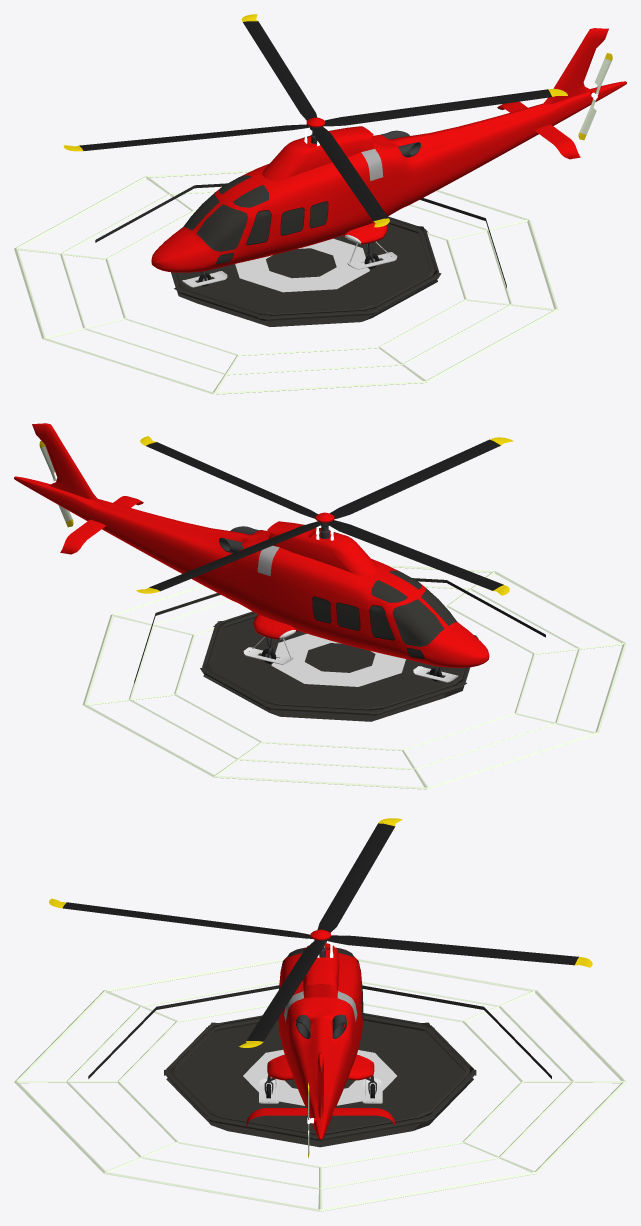
The model's file is helicopter_vip_pro_no5.gltf.
The picture shows the model from 3 angles, top to bottom: view 1: azimuth 30°, elevation 25°; view 2: azimuth 150°, elevation 25°; view 3: azimuth 270°, elevation 25°; orthographic projection. The views are drawn at different scales.
Visible parts, largest first — view 1: Cube, Cylinder.005, Cylinder.006, Cylinder.003, Cube.001, Cylinder.002, Cube.004; view 2: Cube, Cylinder.005, Cylinder.006, Cylinder.003, Cube.001, Cube.004; view 3: Cylinder.005, Cube, Cylinder.006, Cylinder.003, Cube.004, Cube.001, Cube.007, Cylinder.
Boxes of the visible parts, left/top/right/bottom form: Cube: left=151, top=28, right=626, bottom=272; Cylinder.005: left=95, top=183, right=506, bottom=326; Cylinder.006: left=14, top=170, right=558, bottom=394; Cylinder.003: left=63, top=14, right=567, bottom=227; Cube.001: left=497, top=101, right=580, bottom=159; Cylinder.002: left=578, top=53, right=612, bottom=140; Cube.004: left=343, top=222, right=387, bottom=244; Cube: left=14, top=423, right=489, bottom=667; Cylinder.005: left=134, top=578, right=545, bottom=721; Cylinder.006: left=82, top=565, right=626, bottom=789; Cylinder.003: left=136, top=436, right=513, bottom=595; Cube.001: left=60, top=496, right=143, bottom=554; Cube.004: left=253, top=614, right=297, bottom=639; Cylinder.005: left=88, top=985, right=551, bottom=1147; Cube: left=278, top=943, right=363, bottom=1139; Cylinder.006: left=14, top=958, right=626, bottom=1211; Cylinder.003: left=49, top=818, right=592, bottom=1047; Cube.004: left=267, top=1054, right=374, bottom=1080; Cube.001: left=245, top=1108, right=395, bottom=1127; Cube.007: left=259, top=1078, right=382, bottom=1103; Cylinder: left=296, top=1014, right=346, bottom=1038.
Size of what is drawn, in the model's own units: 11.52 by 3.35 by 9.62.
